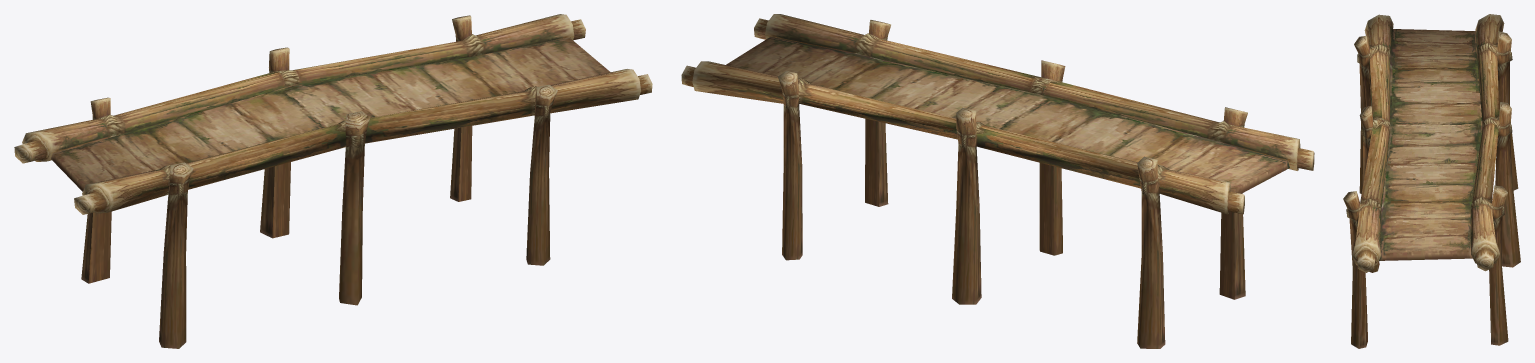
The model's file is environment_Building_qiaoliang_001_a.FBX.
3 views of the same model, side by side, from view 1: azimuth 30°, elevation 25°; view 2: azimuth 150°, elevation 25°; view 3: azimuth 270°, elevation 25° (orthographic). The views are drawn at different scales.
Visible parts, largest first — view 1: environment_Building_qiaoliang_001_a; view 2: environment_Building_qiaoliang_001_a; view 3: environment_Building_qiaoliang_001_a.
Part boxes in pixels (left/top/right/bottom): environment_Building_qiaoliang_001_a: left=14, top=14, right=652, bottom=348; environment_Building_qiaoliang_001_a: left=681, top=14, right=1314, bottom=348; environment_Building_qiaoliang_001_a: left=1343, top=14, right=1520, bottom=348.
Size of the model in its own units: 405 by 133 by 129.
